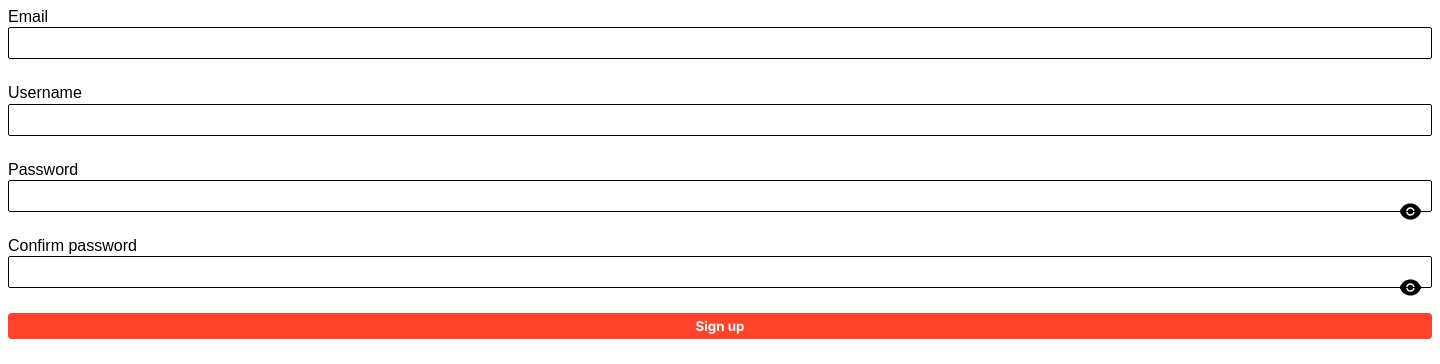
Test case: SingupForm › Should show valdation error when confirm password does not match with password
In the password field labelled "Password": (720, 196) x1=8 y1=180 x2=1432 y2=212, type "123"
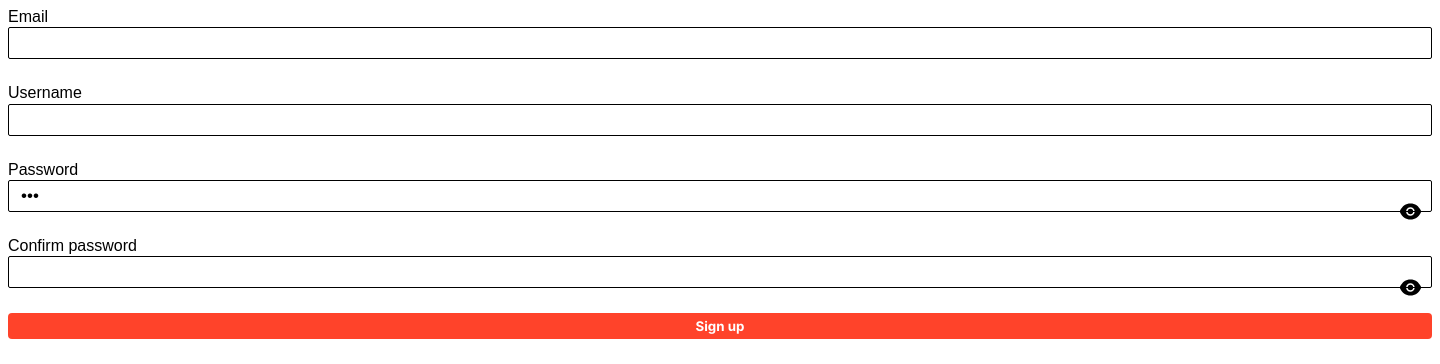
In the password field labelled "Confirm password": (720, 272) x1=8 y1=256 x2=1432 y2=288, type "321"
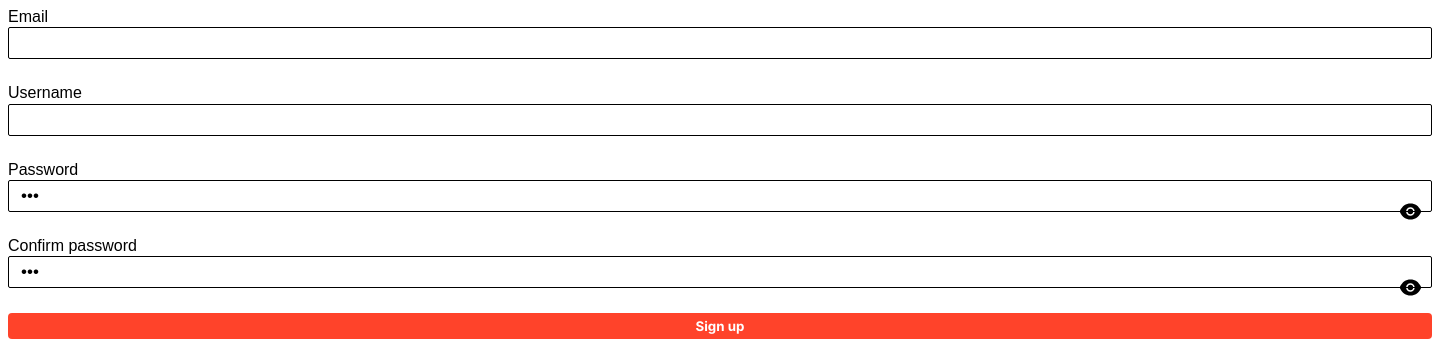
Click the button "Sign up": (720, 326) x1=8 y1=313 x2=1432 y2=339
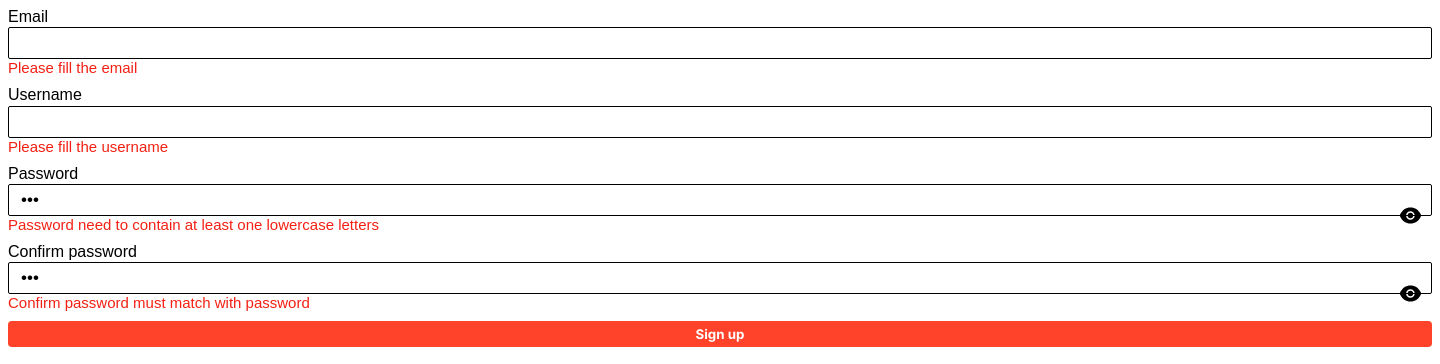
Result: the text "Confirm password must match with password" is shown at x1=8 y1=294 x2=310 y2=311
